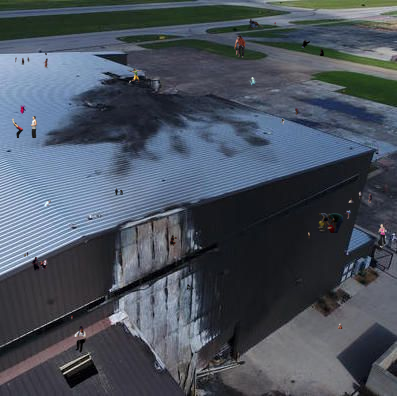Human: (12, 116, 37, 138), (317, 213, 343, 233), (243, 19, 277, 34), (9, 57, 48, 69), (301, 39, 324, 56), (74, 326, 87, 353), (348, 191, 377, 203), (234, 35, 246, 58), (280, 118, 314, 125), (127, 68, 142, 83), (32, 257, 48, 271), (378, 224, 386, 250), (293, 104, 306, 117), (44, 200, 51, 213), (170, 235, 177, 246), (249, 76, 256, 87), (344, 210, 351, 219), (20, 104, 26, 114), (115, 188, 123, 195), (183, 284, 192, 290), (24, 252, 31, 257), (338, 323, 343, 329), (119, 252, 123, 257), (308, 232, 310, 239), (366, 285, 368, 291), (71, 315, 73, 320), (45, 51, 47, 56)
